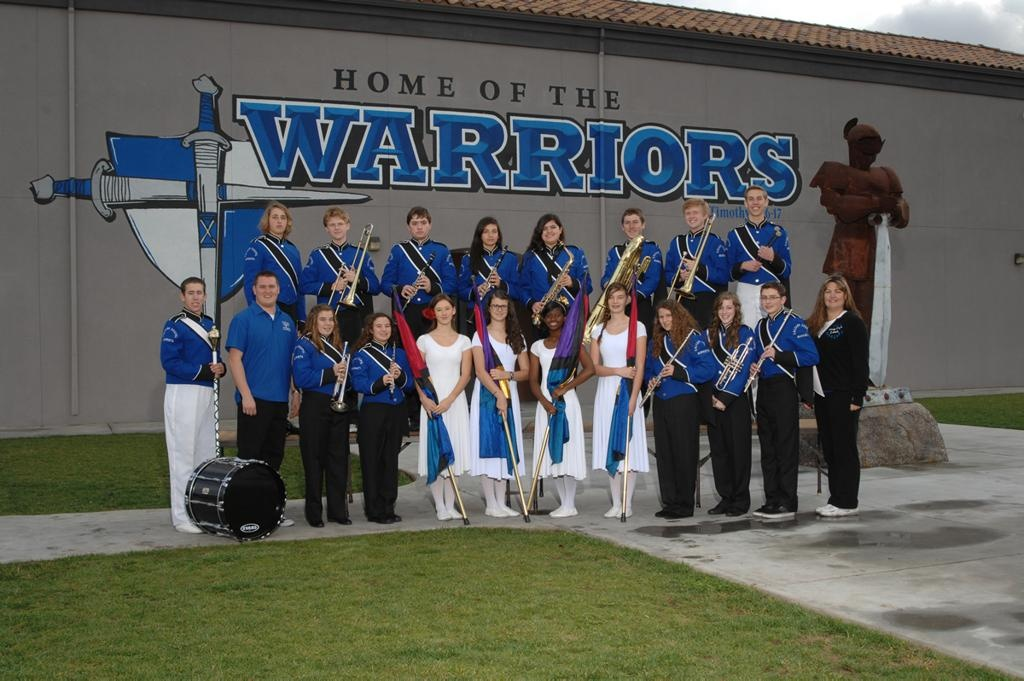human_face: (823, 280, 845, 308), (184, 280, 204, 310), (256, 274, 276, 304), (760, 285, 780, 313), (409, 212, 429, 238), (316, 308, 334, 336), (326, 213, 346, 238), (540, 219, 560, 244), (747, 188, 765, 215), (683, 203, 703, 227), (269, 206, 287, 232), (717, 296, 735, 322), (608, 287, 626, 313), (544, 304, 562, 330), (490, 294, 508, 320), (624, 210, 640, 238), (434, 300, 452, 324), (372, 315, 390, 339), (657, 306, 675, 330), (480, 223, 498, 245)
